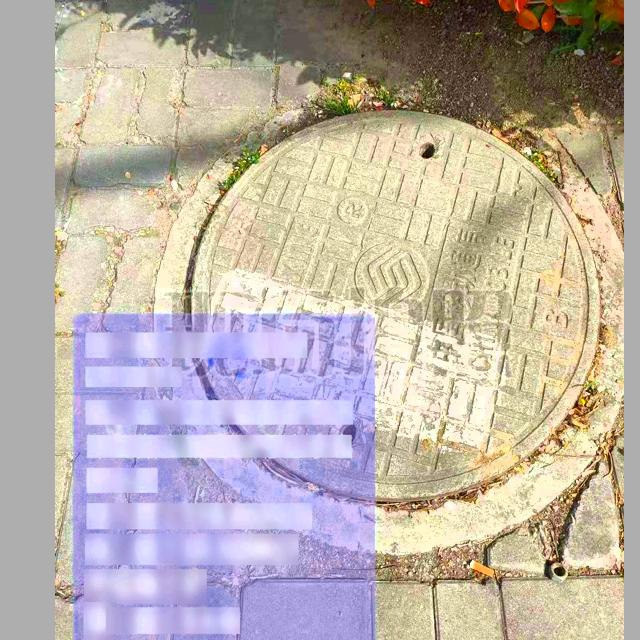circle: (177, 89, 613, 536)
